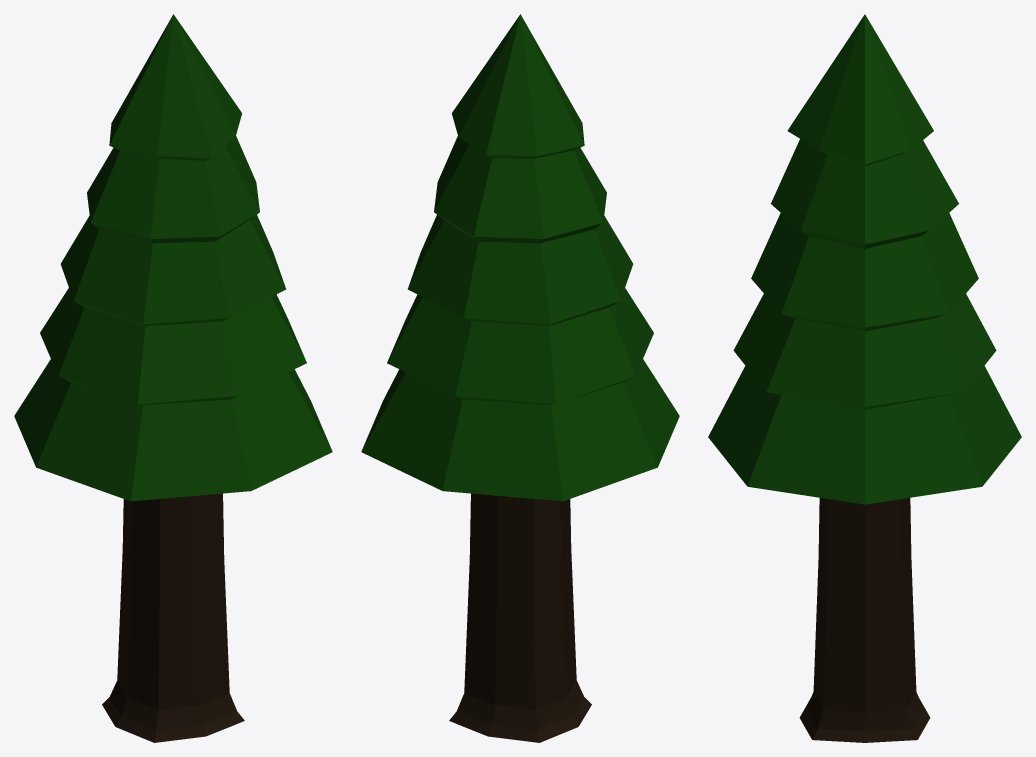
File: Tree.fbx
3 views of the same model, side by side, from view 1: azimuth 30°, elevation 25°; view 2: azimuth 150°, elevation 25°; view 3: azimuth 270°, elevation 25° (orthographic).
Parts seen in each view (by area): view 1: Cube.001; view 2: Cube.001; view 3: Cube.001.
Part boxes in pixels (x1,y1,x2,y2): Cube.001: (14,14,332,742); Cube.001: (361,14,679,742); Cube.001: (708,14,1021,742).
Size of the model in its own units: 7.3 by 17.75 by 7.18.
